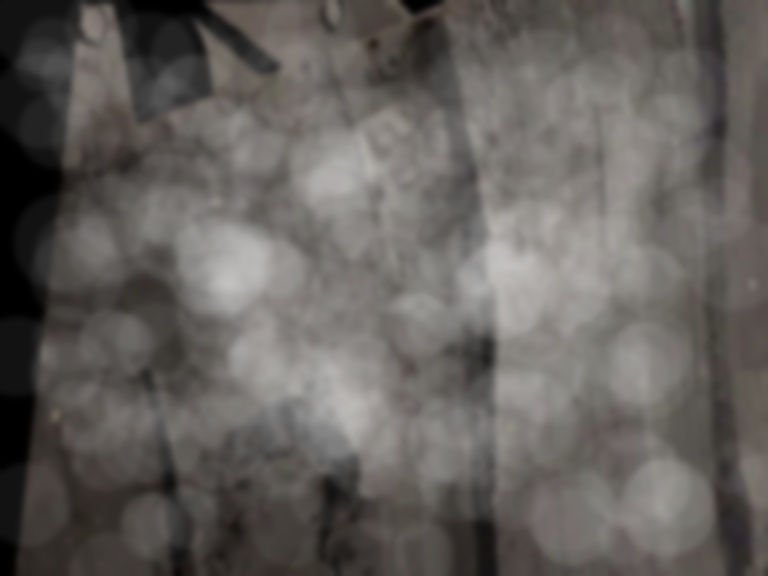temoin:0: (460, 203, 547, 311)
